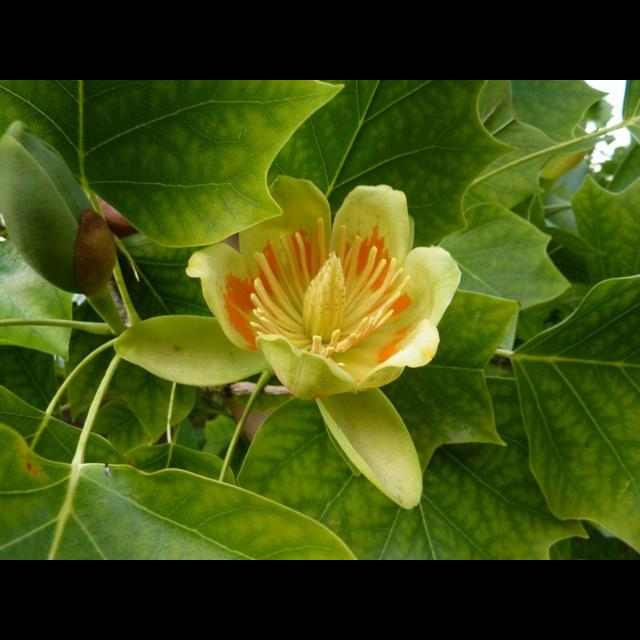Flower: (133, 148, 484, 474)
